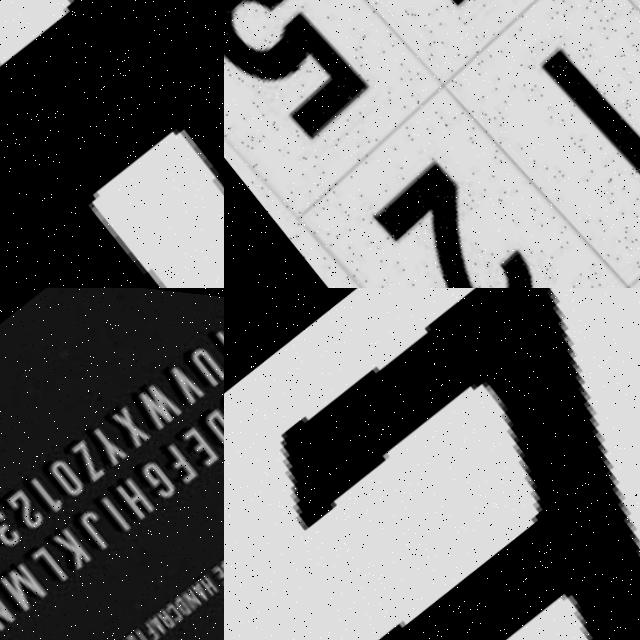0: (47, 451, 91, 495)
1: (531, 26, 640, 202), (27, 467, 70, 511)
2: (362, 131, 582, 288), (5, 482, 52, 530)
3: (0, 501, 28, 550)
5: (224, 0, 397, 162)
E: (283, 288, 640, 640)
